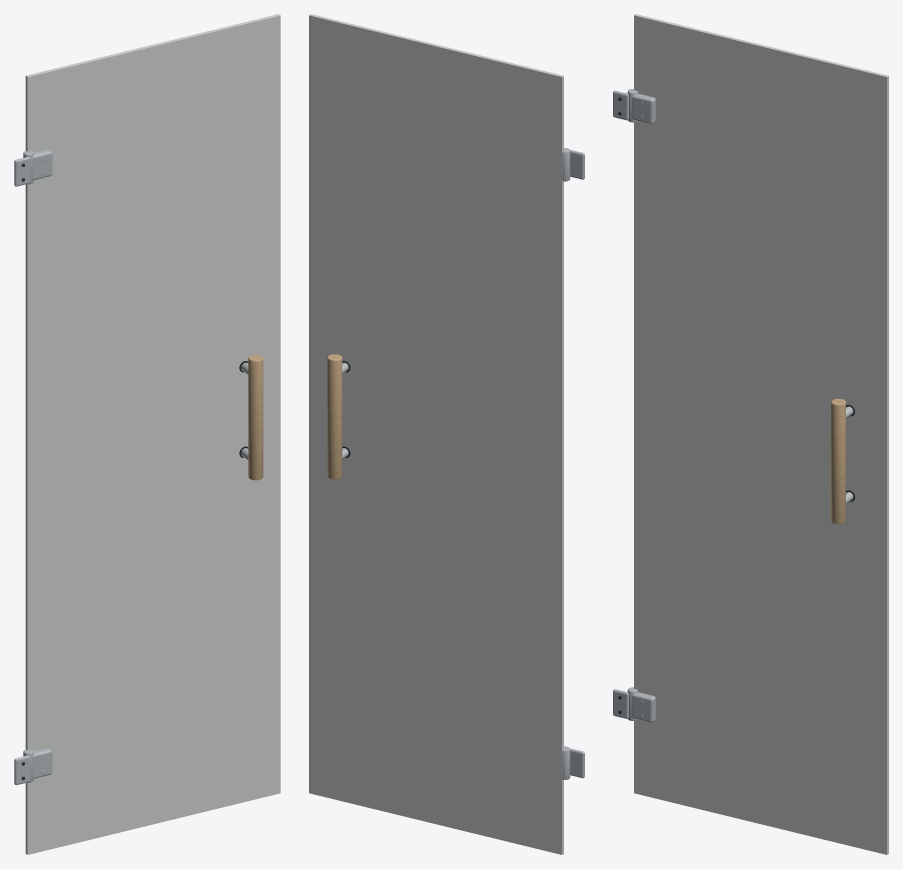
The model's file is door_left-hinge.glb.
3 views of the same model, side by side, from view 1: azimuth 30°, elevation 25°; view 2: azimuth 150°, elevation 25°; view 3: azimuth 330°, elevation 25° (orthographic).
Visible parts, largest first — view 1: door_left-hinge_door_leaf, door_left-hinge_door_frame; view 2: door_left-hinge_door_leaf, door_left-hinge_door_frame; view 3: door_left-hinge_door_leaf, door_left-hinge_door_frame.
Boxes of the visible parts, bbox=[...] form: door_left-hinge_door_leaf: bbox=[25, 14, 280, 854]; door_left-hinge_door_frame: bbox=[14, 151, 33, 785]; door_left-hinge_door_leaf: bbox=[309, 14, 563, 854]; door_left-hinge_door_frame: bbox=[562, 148, 584, 779]; door_left-hinge_door_leaf: bbox=[632, 14, 888, 854]; door_left-hinge_door_frame: bbox=[613, 89, 637, 720].
Size of the model in its own units: 0.661 by 1.82 by 0.136.
5 materials, 1 textured.
